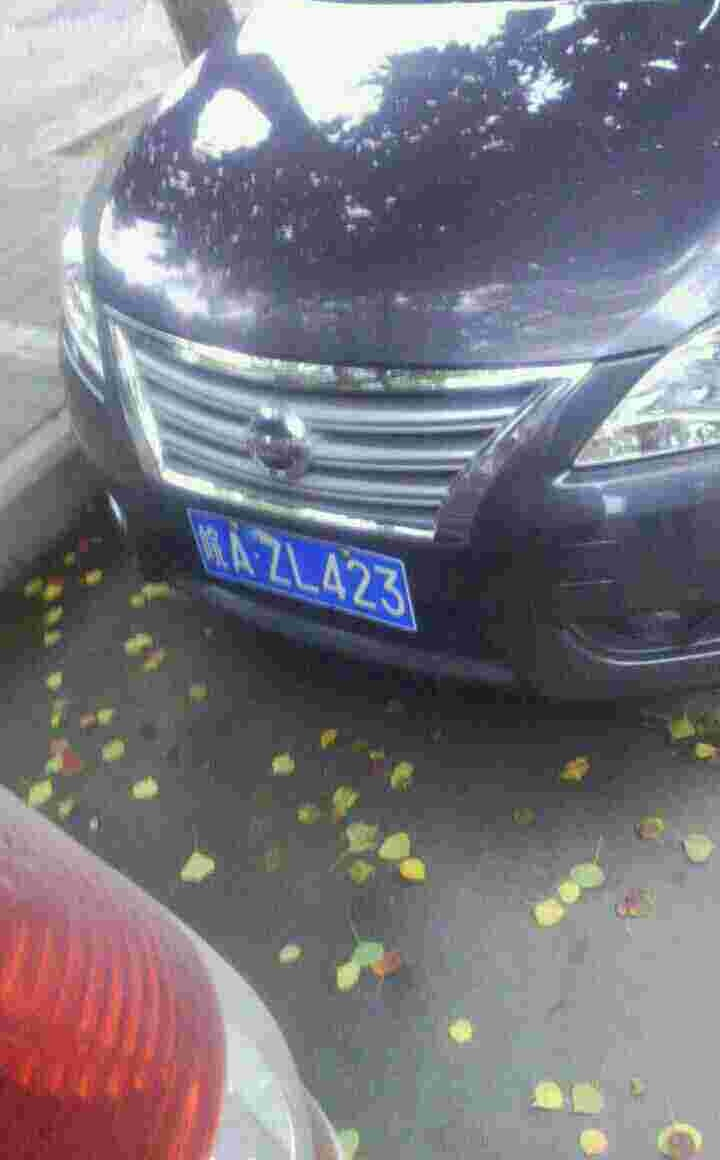license_plate: (189, 507, 415, 614)
